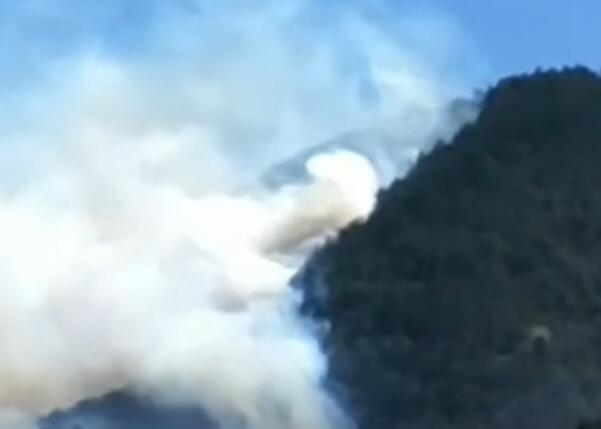yanwu: (1, 0, 455, 426)
